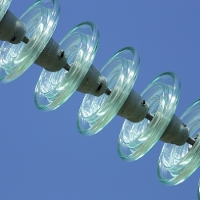isolator: (1, 1, 200, 186)
